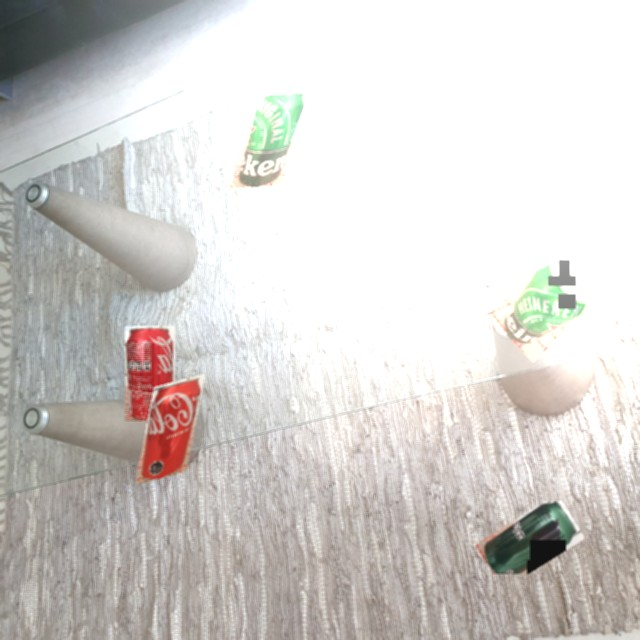coca cola: (136, 374, 205, 484), (125, 326, 175, 421)
heineken: (488, 249, 602, 362), (230, 89, 311, 188)
schweppes: (476, 501, 584, 574)
